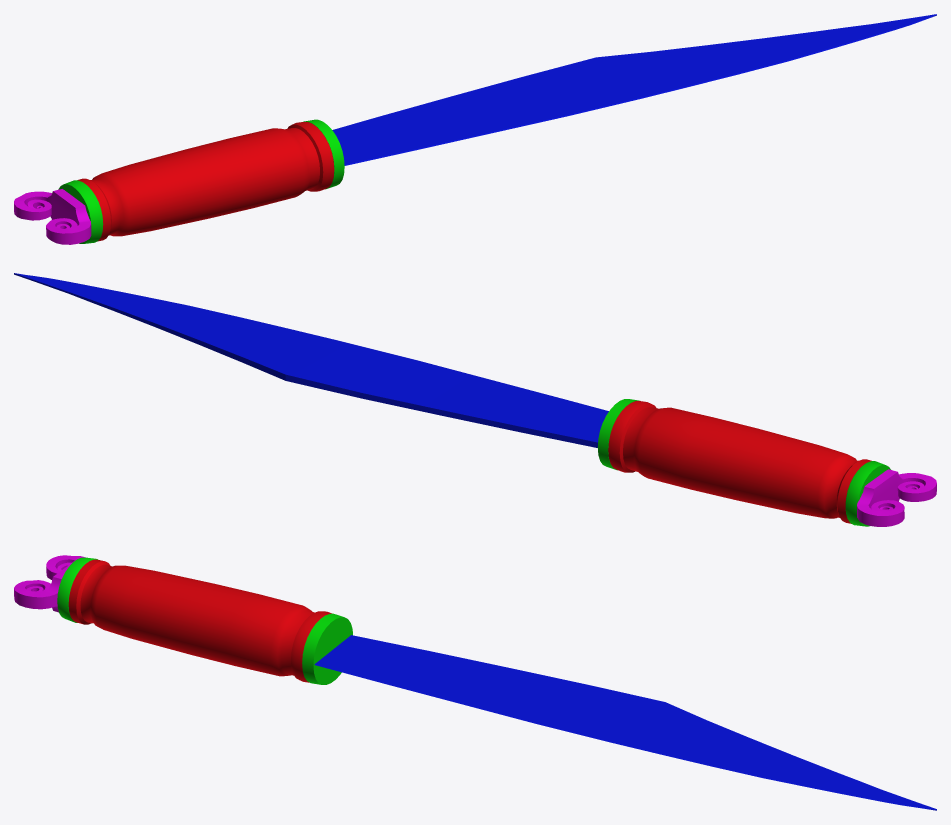
The model's file is Knife1.fbx.
3 renders of one model, top to bottom at view 1: azimuth 30°, elevation 25°; view 2: azimuth 150°, elevation 25°; view 3: azimuth 330°, elevation 25°, orthographic. The views are drawn at different scales.
Parts seen in each view (by area): view 1: Versiering LP; view 2: Versiering LP; view 3: Versiering LP.
Boxes of the visible parts, <box> form: Versiering LP: <box>14,14,936,244</box>; Versiering LP: <box>14,273,936,526</box>; Versiering LP: <box>14,555,936,810</box>.
Bounding box in the file's own units: 116 × 7.74 × 11.91.
